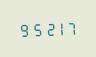five: (30, 20, 41, 37)
nine: (18, 21, 29, 37)
one: (54, 19, 65, 36)
seven: (66, 19, 77, 35)
two: (42, 20, 53, 36)
